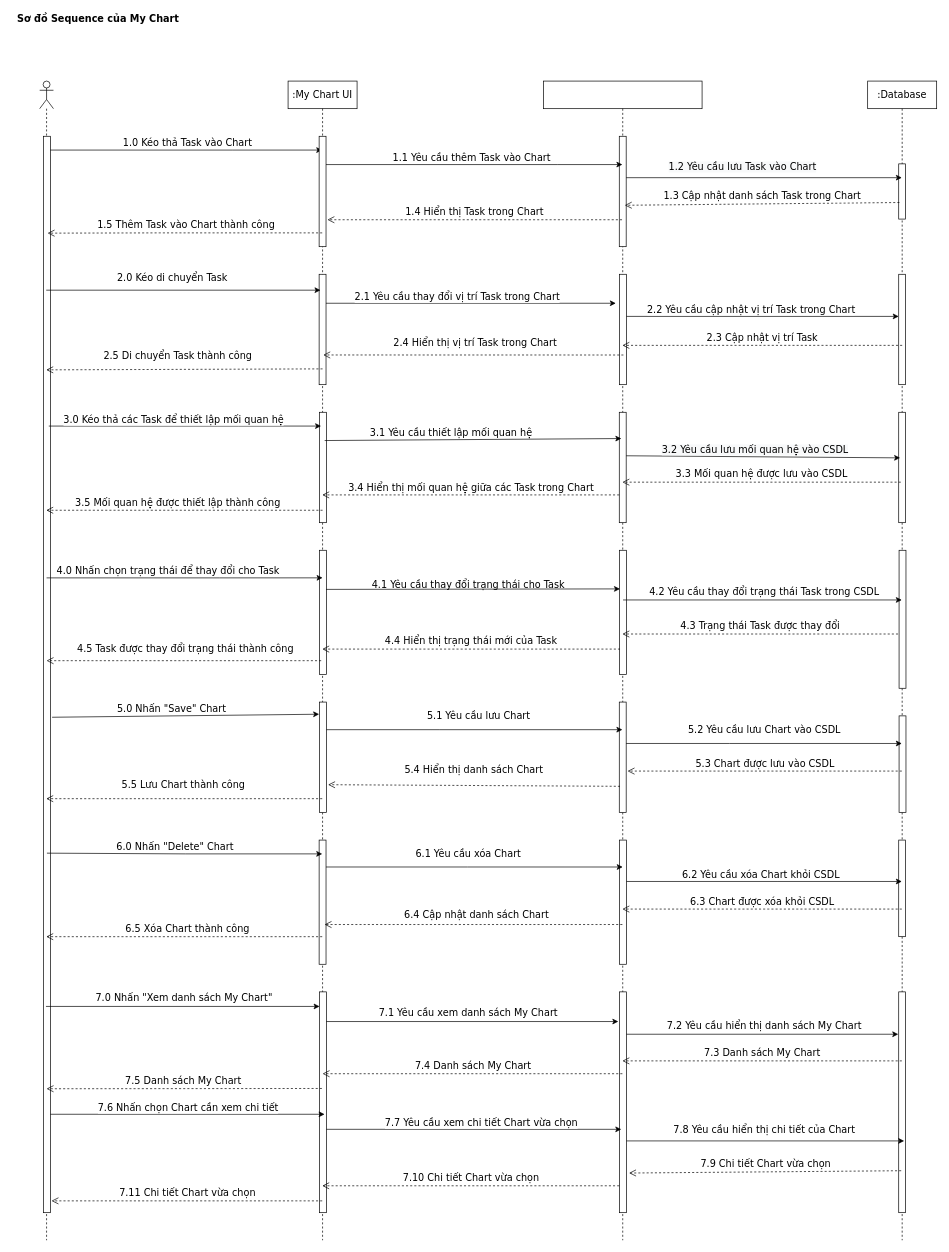
This 949x1252 diagram has some shape labels left out. Here are the shapes that lost their labels. From the top down, the box of each, then its label:
(39, 80, 53, 1240): :User
(543, 80, 702, 1240): :MyChart:MyChartController
